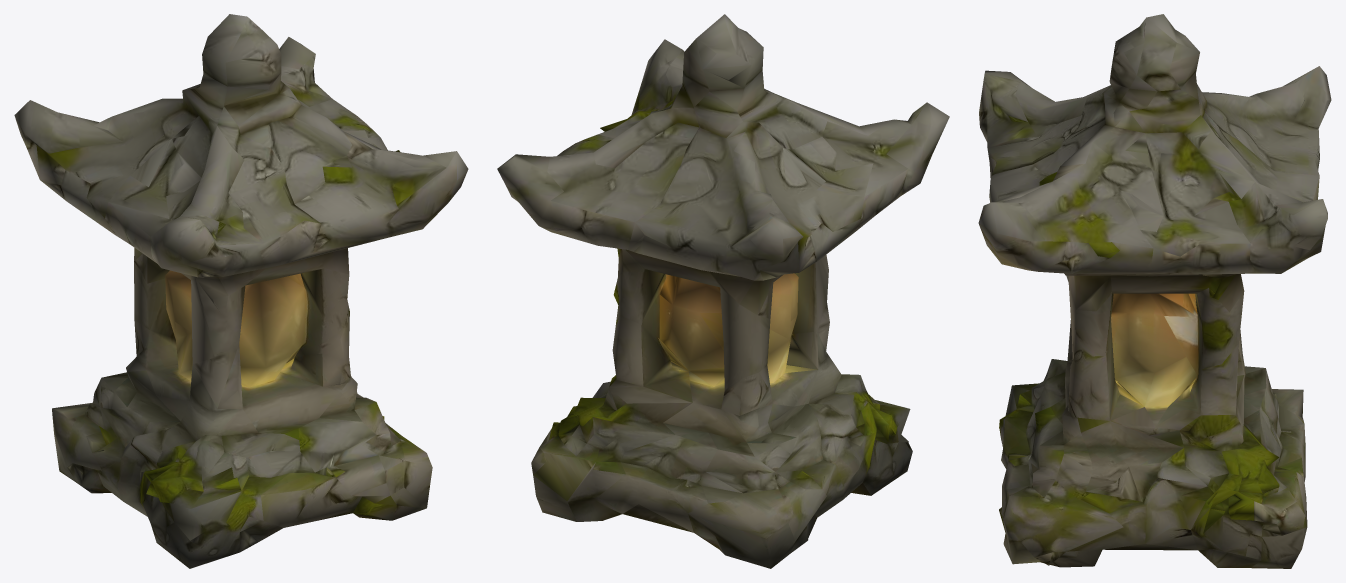
File: lantern.glb
The picture shows the model from 3 angles, left to right: view 1: azimuth 30°, elevation 25°; view 2: azimuth 150°, elevation 25°; view 3: azimuth 270°, elevation 25°; orthographic projection. The views are drawn at different scales.
Visible parts, largest first — view 1: tripo_node_e80c32b4-b97d-4623-b012-099b14003e65; view 2: tripo_node_e80c32b4-b97d-4623-b012-099b14003e65; view 3: tripo_node_e80c32b4-b97d-4623-b012-099b14003e65.
Boxes of the visible parts, x1,y1,x2,y2 form: tripo_node_e80c32b4-b97d-4623-b012-099b14003e65: (14,14,468,568); tripo_node_e80c32b4-b97d-4623-b012-099b14003e65: (497,14,949,568); tripo_node_e80c32b4-b97d-4623-b012-099b14003e65: (978,14,1331,568).
Size of the model in its own units: 0.6526 by 0.997 by 0.6449.
1 material, 1 textured.
